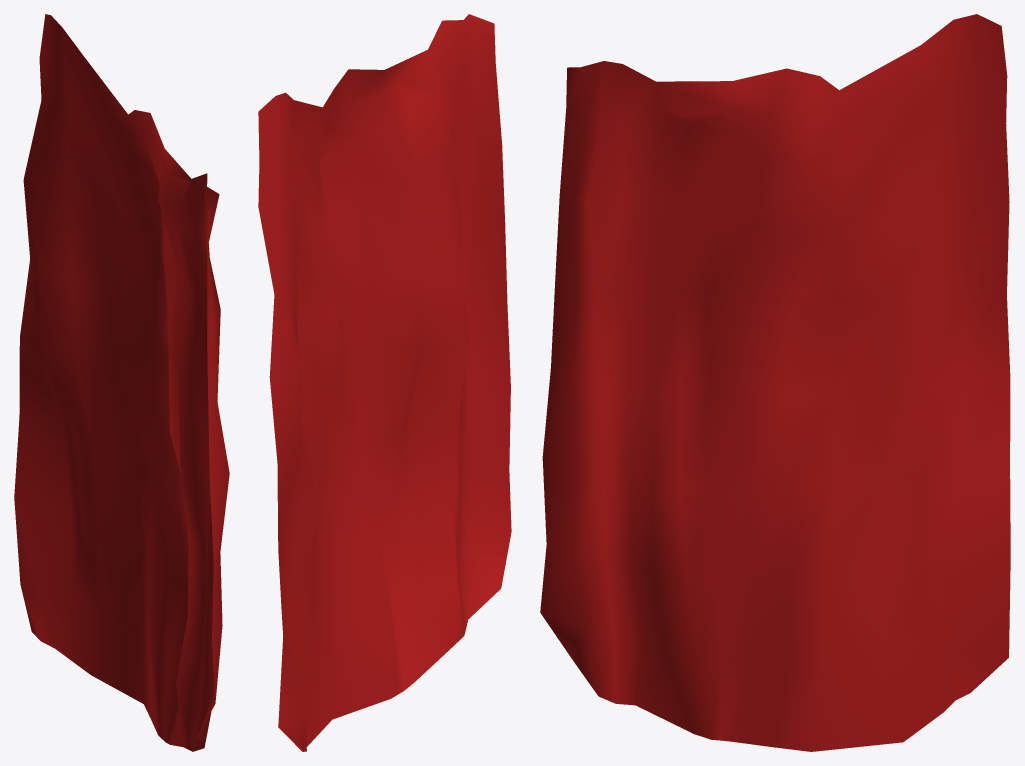
The model's file is SM_Curtain.fbx.
The picture shows the model from 3 angles, left to right: view 1: azimuth 30°, elevation 25°; view 2: azimuth 150°, elevation 25°; view 3: azimuth 270°, elevation 25°; orthographic projection. The views are drawn at different scales.
Parts seen in each view (by area): view 1: pPlane2; view 2: pPlane2; view 3: pPlane2.
Boxes of the visible parts, x1,y1,x2,y2 form: pPlane2: (14, 14, 229, 751); pPlane2: (258, 14, 511, 751); pPlane2: (540, 14, 1010, 751).
Bounding box in the file's own units: 30.7 × 283 × 166.
